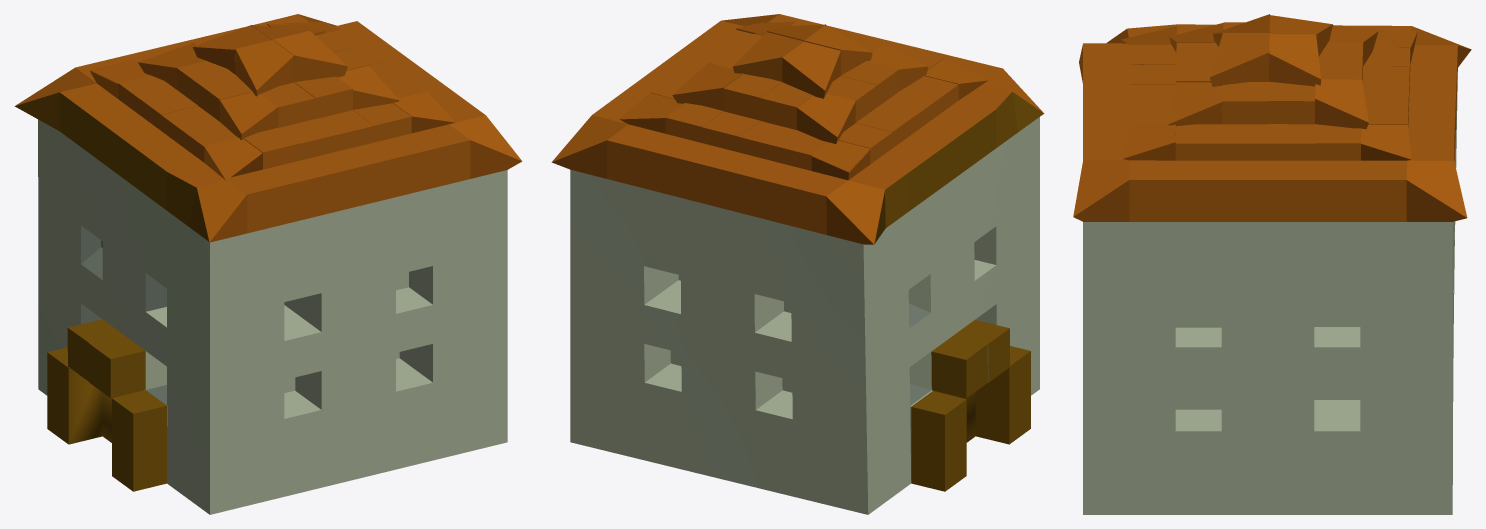
File: house.fbx
The picture shows the model from 3 angles, left to right: view 1: azimuth 30°, elevation 25°; view 2: azimuth 150°, elevation 25°; view 3: azimuth 270°, elevation 25°; orthographic projection. The views are drawn at different scales.
Parts seen in each view (by area): view 1: Cube; view 2: Cube; view 3: Cube.
Boxes of the visible parts, left/top/right/bottom form: Cube: left=14, top=14, right=522, bottom=514; Cube: left=551, top=14, right=1044, bottom=514; Cube: left=1073, top=14, right=1471, bottom=514.
Bounding box in the file's own units: 232 × 241 × 216.
